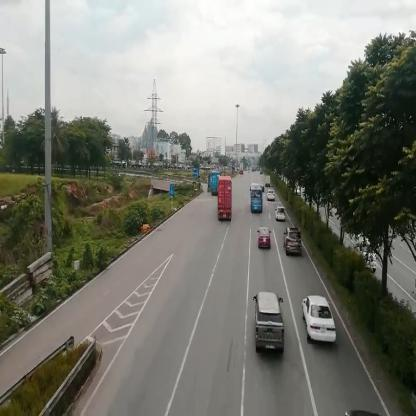bus: (252, 185, 263, 214)
car: (256, 290, 285, 355), (308, 295, 339, 346), (287, 229, 302, 257), (260, 226, 270, 250), (278, 208, 286, 221), (269, 189, 275, 203)
container: (218, 177, 232, 220), (208, 175, 220, 195)
